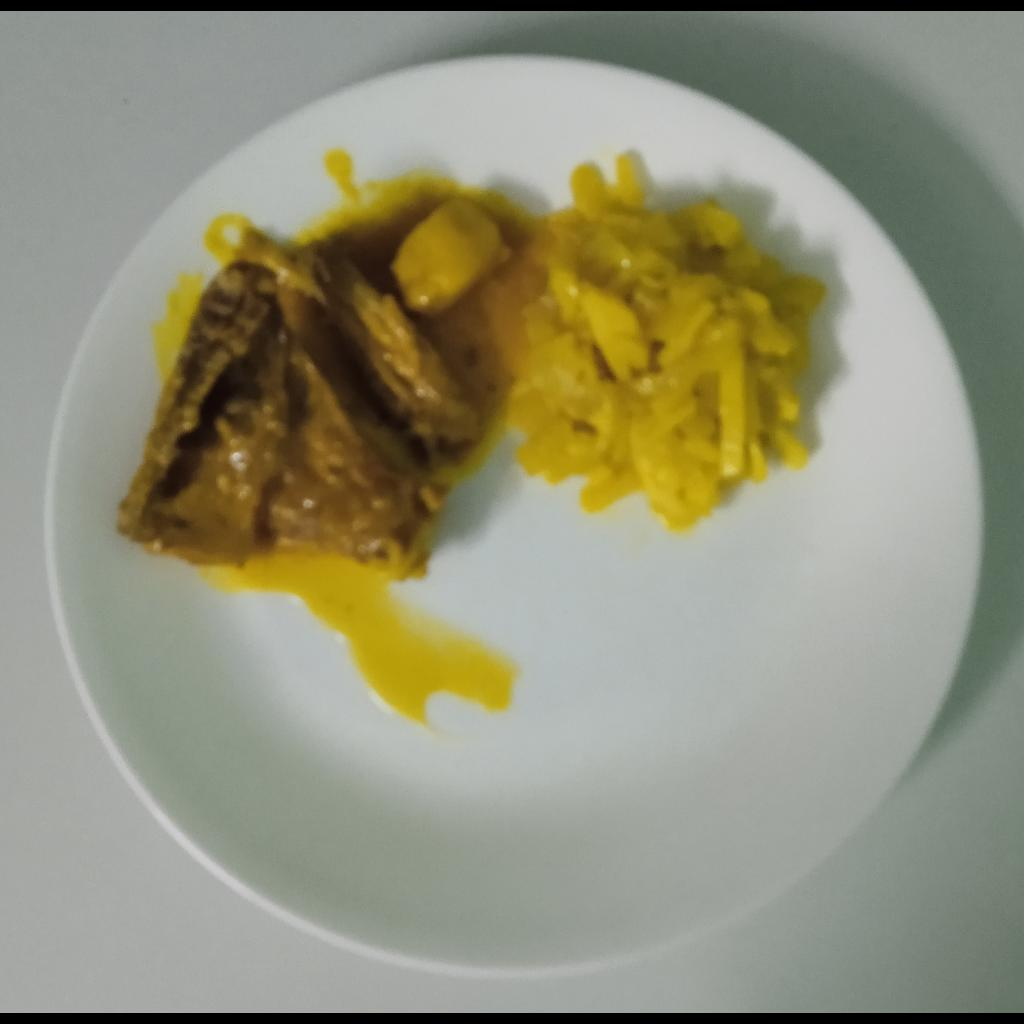chicken: (116, 223, 489, 579)
potato: (389, 196, 514, 316)
potol: (507, 156, 825, 532)
